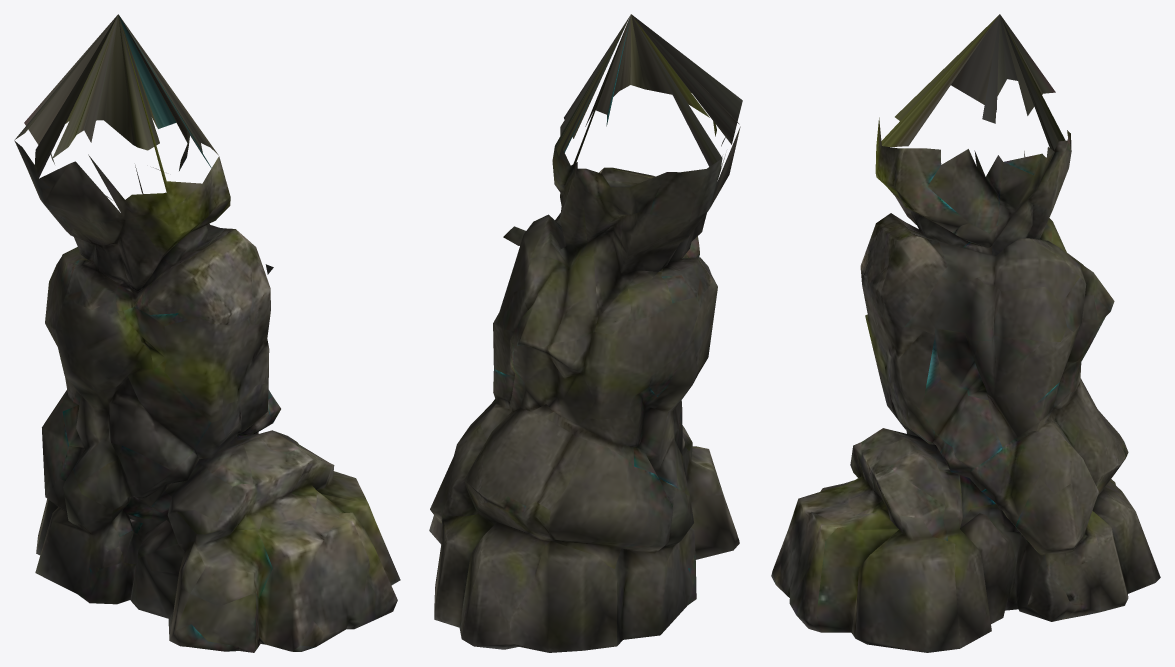
File: warden_leg_posx.glb
The picture shows the model from 3 angles, left to right: view 1: azimuth 30°, elevation 25°; view 2: azimuth 150°, elevation 25°; view 3: azimuth 270°, elevation 25°; orthographic projection. The views are drawn at different scales.
Size of the model in its own units: 5.31 by 8.99 by 5.93.
Materials: 1 (1 with a texture image).
